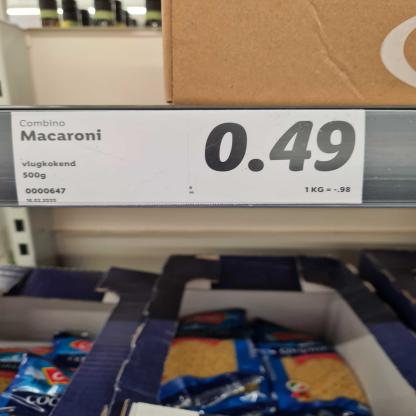prtg: (13, 110, 366, 206)
